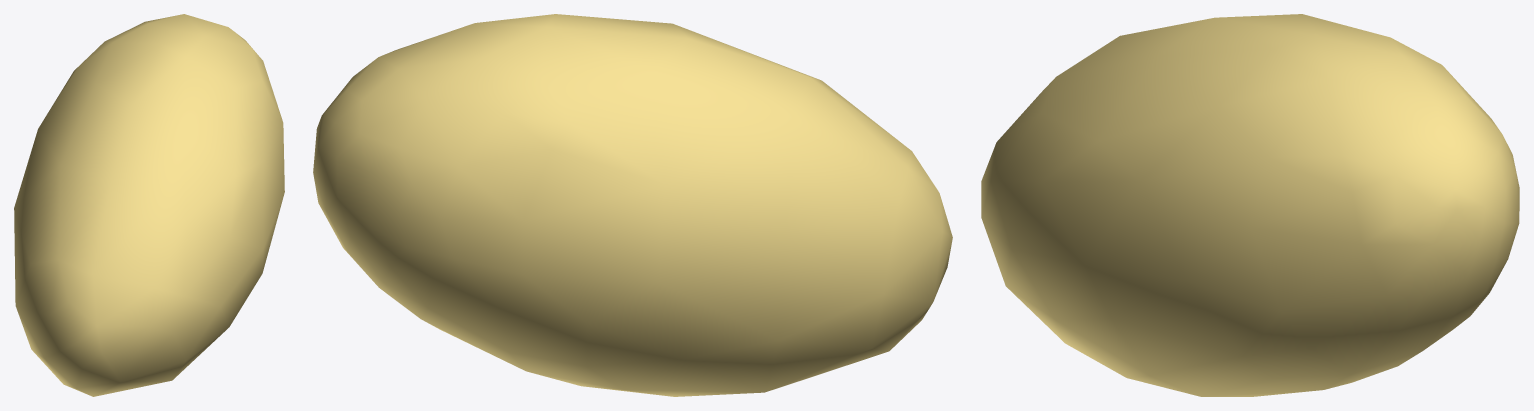
The model's file is fma53549_fj1339.glb.
3 views of the same model, side by side, from view 1: azimuth 30°, elevation 25°; view 2: azimuth 150°, elevation 25°; view 3: azimuth 270°, elevation 25° (orthographic). The views are drawn at different scales.
Visible parts, largest first — view 1: FMA53549_FJ1339; view 2: FMA53549_FJ1339; view 3: FMA53549_FJ1339.
Part boxes in pixels (x1,y1,x2,y2): FMA53549_FJ1339: (14, 14, 284, 396); FMA53549_FJ1339: (313, 14, 952, 396); FMA53549_FJ1339: (981, 14, 1519, 396).
Bounding box in the file's own units: 0.00324 × 0.00257 × 0.00326.
